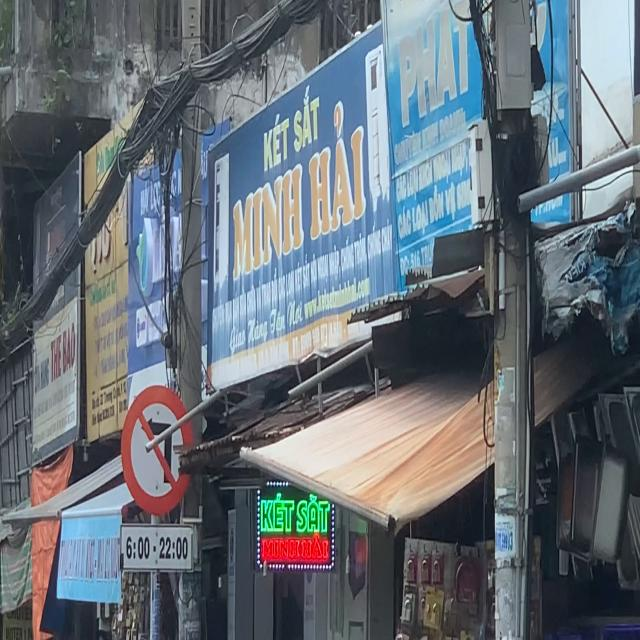Cam re trai: (121, 383, 195, 517)
